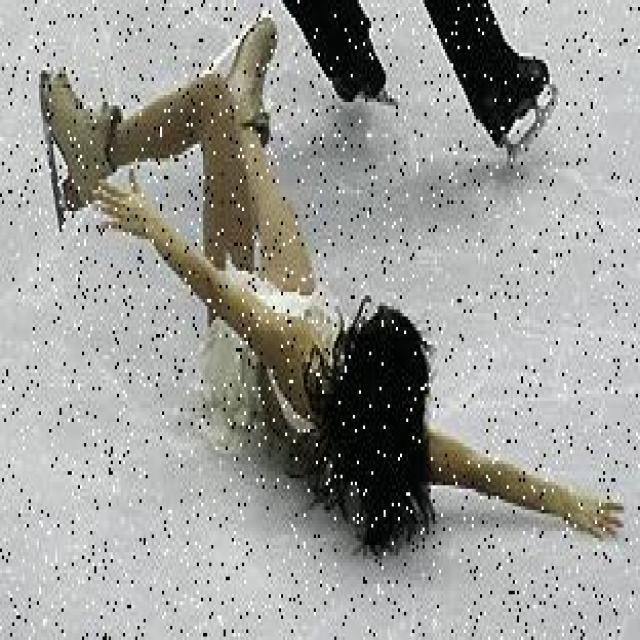fall: (55, 42, 474, 520)
